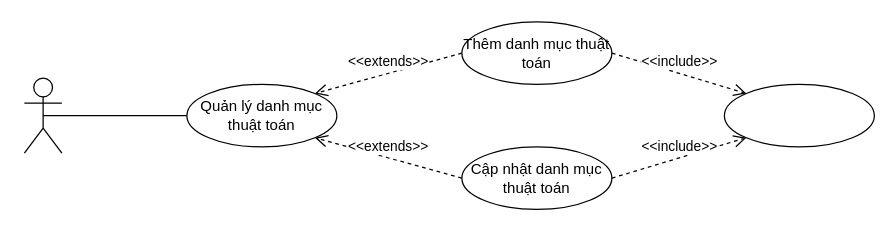
Image size: 896x231. Some labels were removed from this diagram. Here are the shapes that lost their labels. From the top down, the box of each, then its label:
(23, 77, 62, 153): Admin
(723, 83, 874, 147): Đăng nhập
